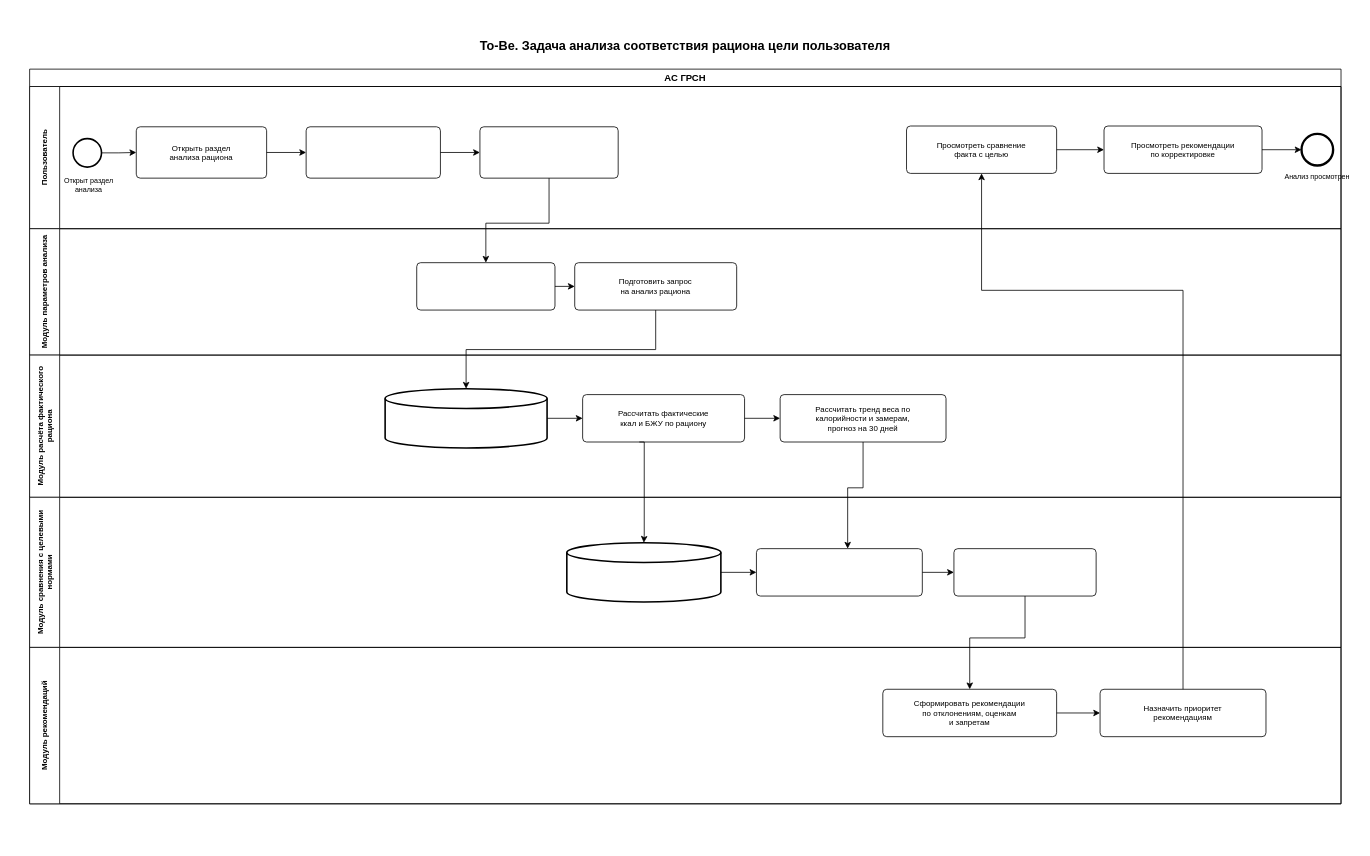
Some shapes in this 1370 by 856 pixel diagram are drawn without their labels. The shapes that lost their labels are listed below. From the top down, each one's centre as x and y in pixels, then its label:
pixel 372 152: Выбрать период анализа
pixel 548 152: Нажать «Обновить анализ»
pixel 485 286: Принять параметры анализа
pixel 465 417: Получить профиль, рецепты рациона и замеры веса
pixel 643 572: Получить целевые нормы по цели из профиля
pixel 839 572: Сравнить факт с целевыми нормами
pixel 1024 572: Рассчитать отклонения и индекс соответствия
